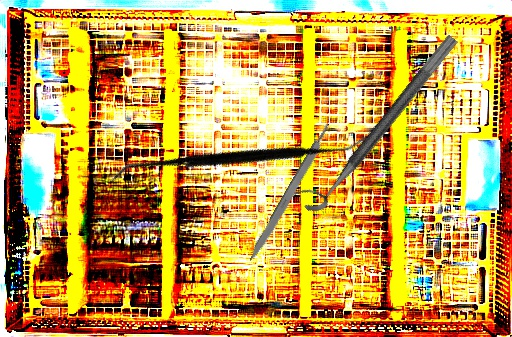Fixation Ring: (291, 21, 460, 219)
Scalpel Handle: (246, 122, 335, 265)
Spatula Surgical: (108, 38, 369, 282)
